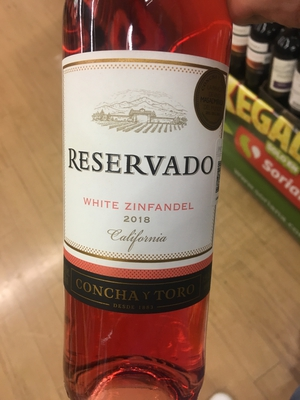reservado white zinfandel: (61, 6, 219, 400)
